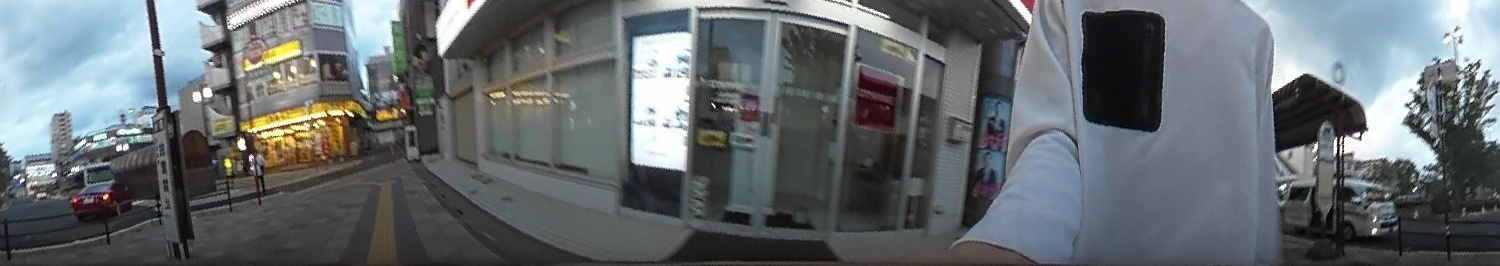difficult_person: (251, 146, 269, 194)
